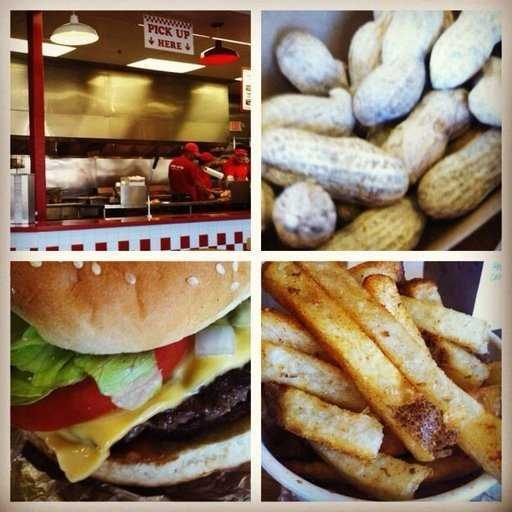hamburger: (9, 261, 253, 502)
